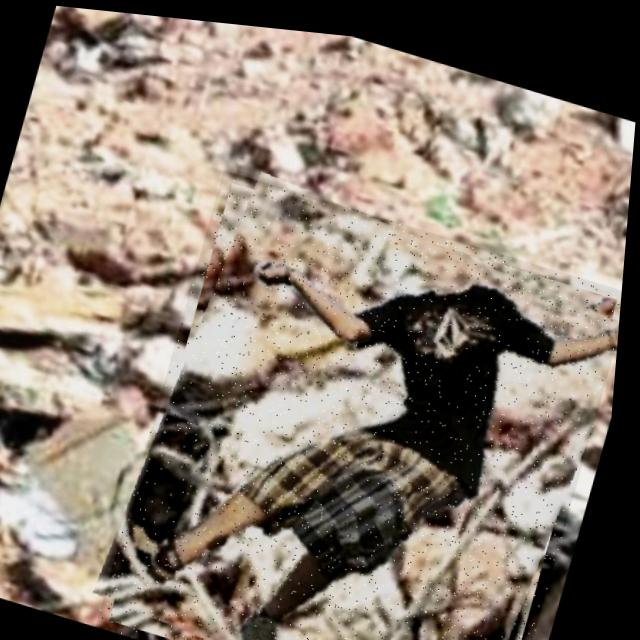Person in Rubble: (104, 157, 631, 640)
